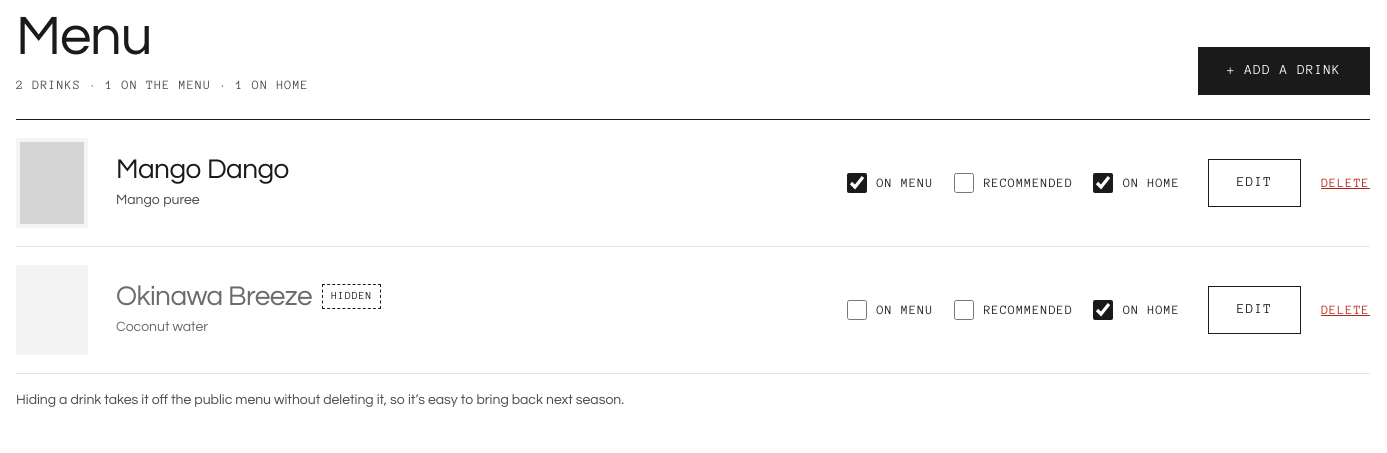
Scenario: leaves the row unchanged and shows an error when saving fails
The width and height of the screenshot is (1387, 453).
Click the checkbox named "On menu: Mango Dango".
click(857, 182)  # box 847,172 -> 867,192
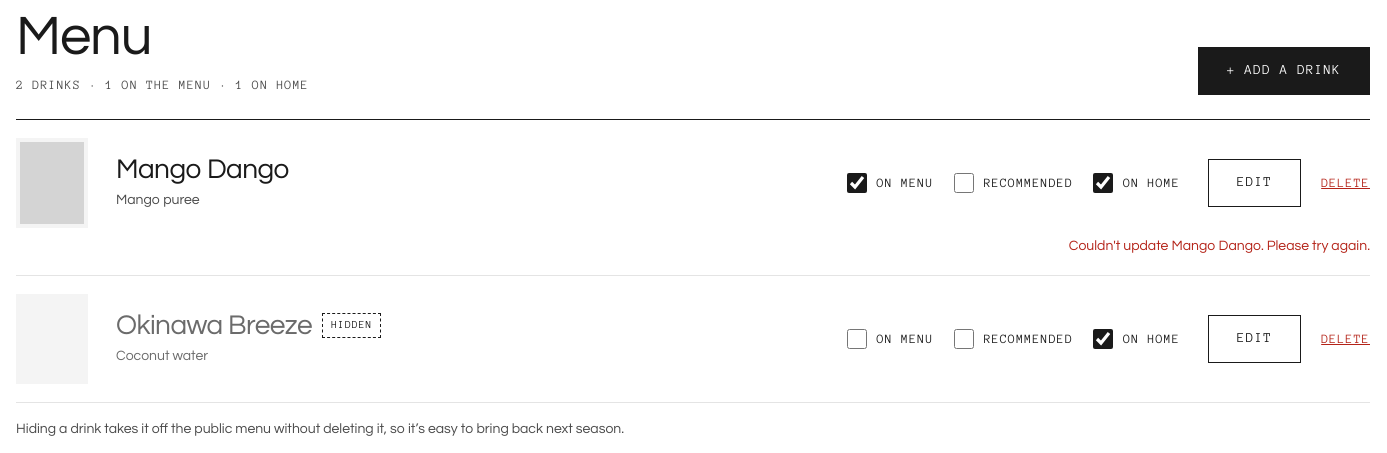
Expected: the list item that starts with "Mango Dango" is shown, 116,154 -> 289,184
Result: the message shows "Couldn't update Mango Dango" at 1069,238 -> 1370,252
